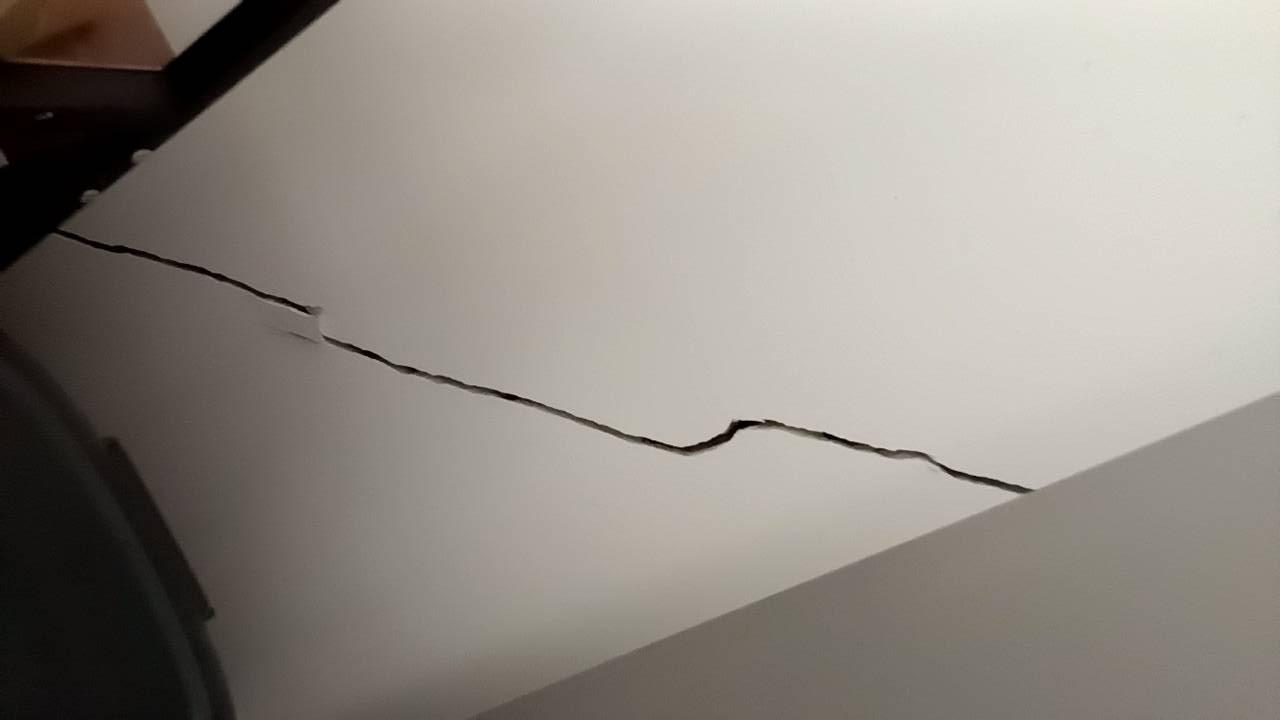Medium: (162, 224, 1051, 502)
